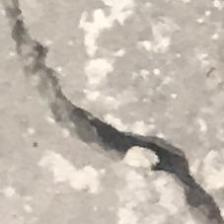Crack: (1, 2, 217, 224)
